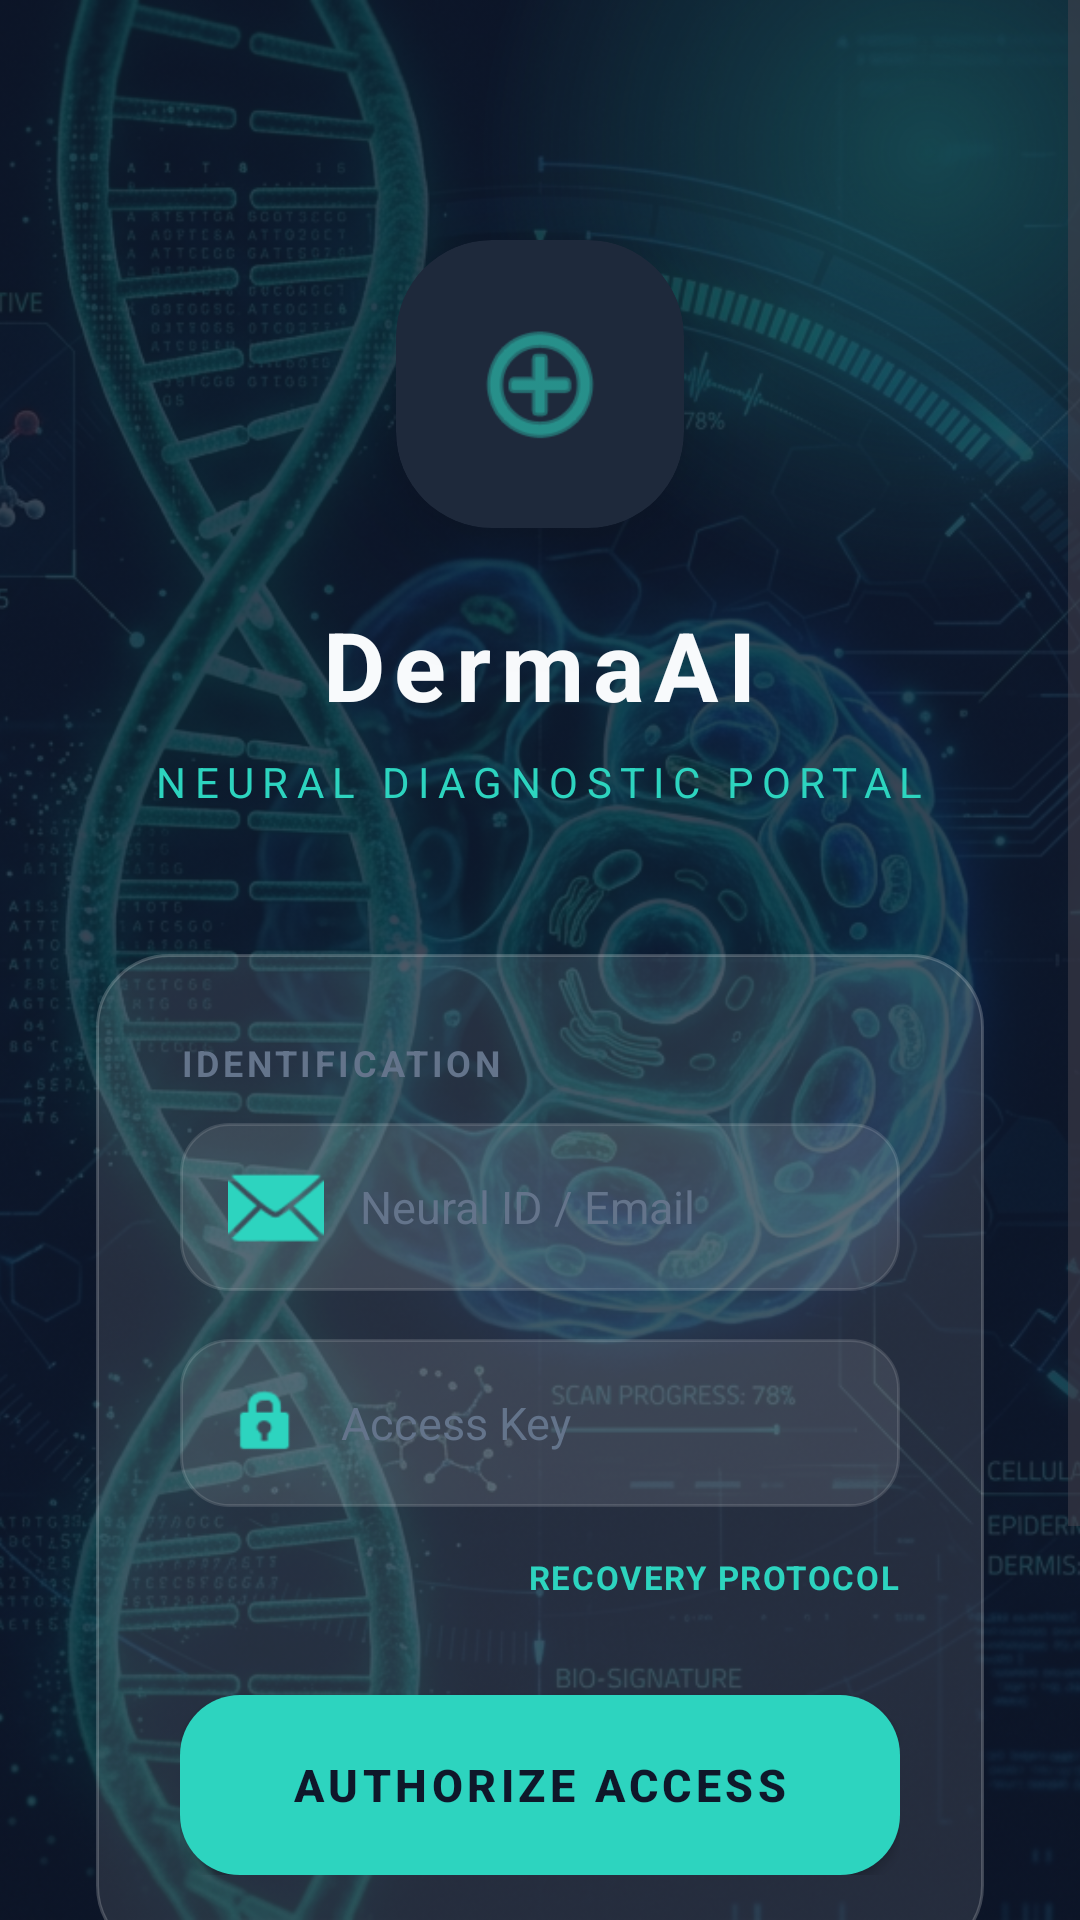

Icons on this 1080w x 1920h Android screen, each with its box as box(x1, y1, x2, y2):
add: box(487, 331, 593, 438)
